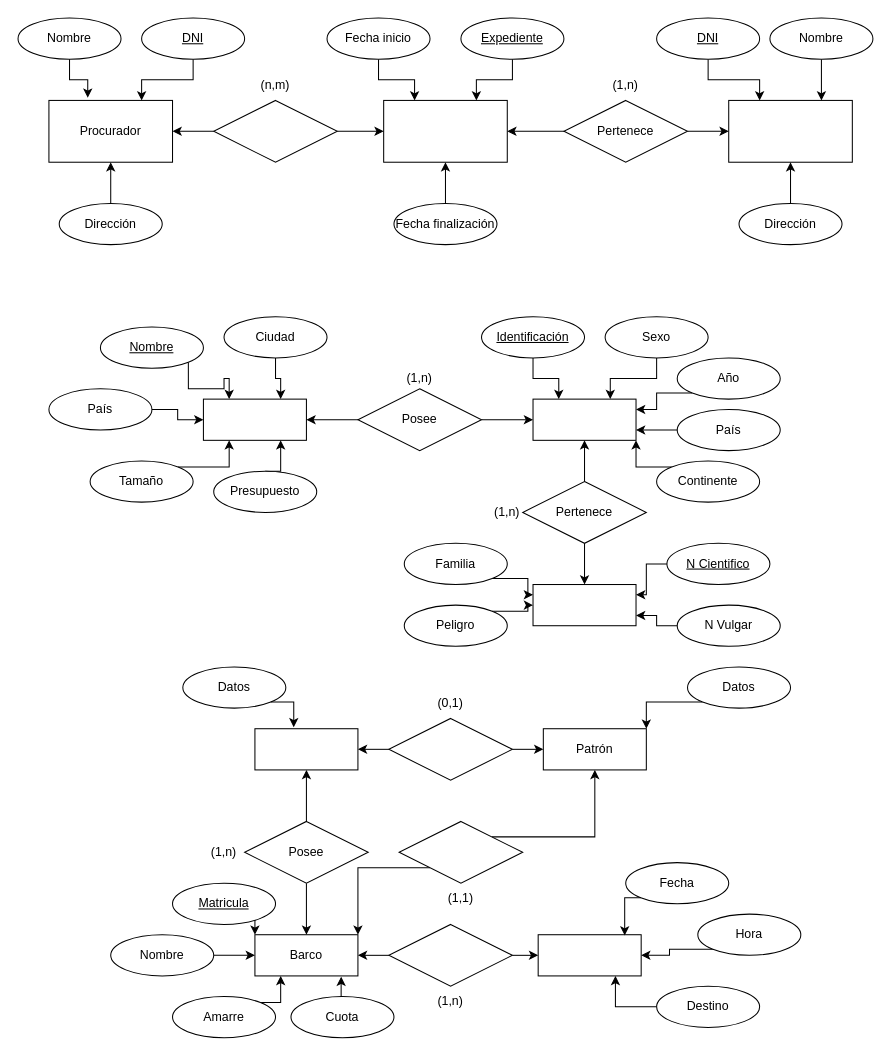
Some shapes in this 891 by 1056 pixel diagram are drawn without their labels. Here are the shapes that lost their labels. From the top down, the box of each, then its label:
(213, 99, 337, 162): Lleva
(383, 99, 507, 162): Asunto
(728, 99, 852, 162): Cliente
(202, 398, 306, 440): Zoo
(532, 398, 636, 440): Animal
(532, 583, 636, 626): Especie
(254, 728, 358, 770): Socio
(388, 717, 512, 780): Es
(398, 820, 523, 883): Tiene
(388, 923, 512, 986): Realiza
(537, 934, 641, 976): Salidas
